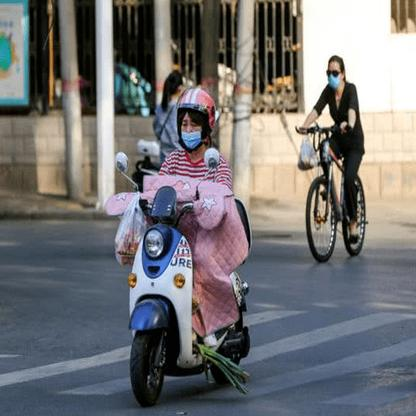target: (99, 85, 260, 404)
